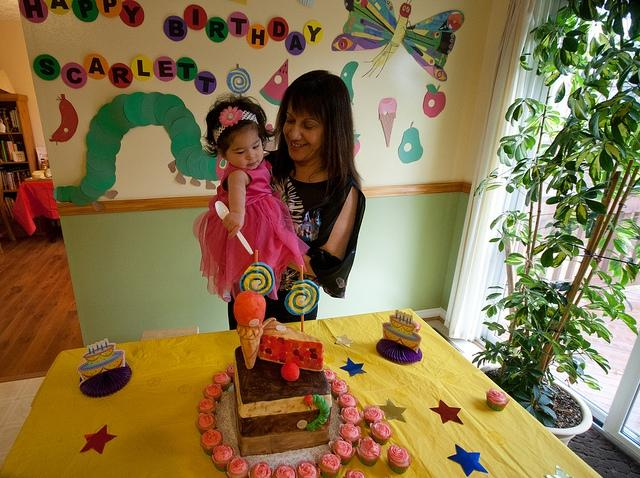apple: (423, 84, 446, 118)
